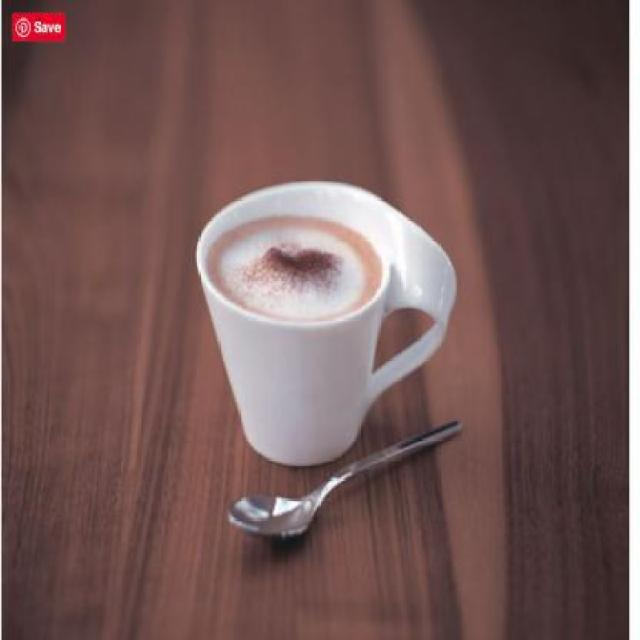cup: (186, 172, 462, 473)
